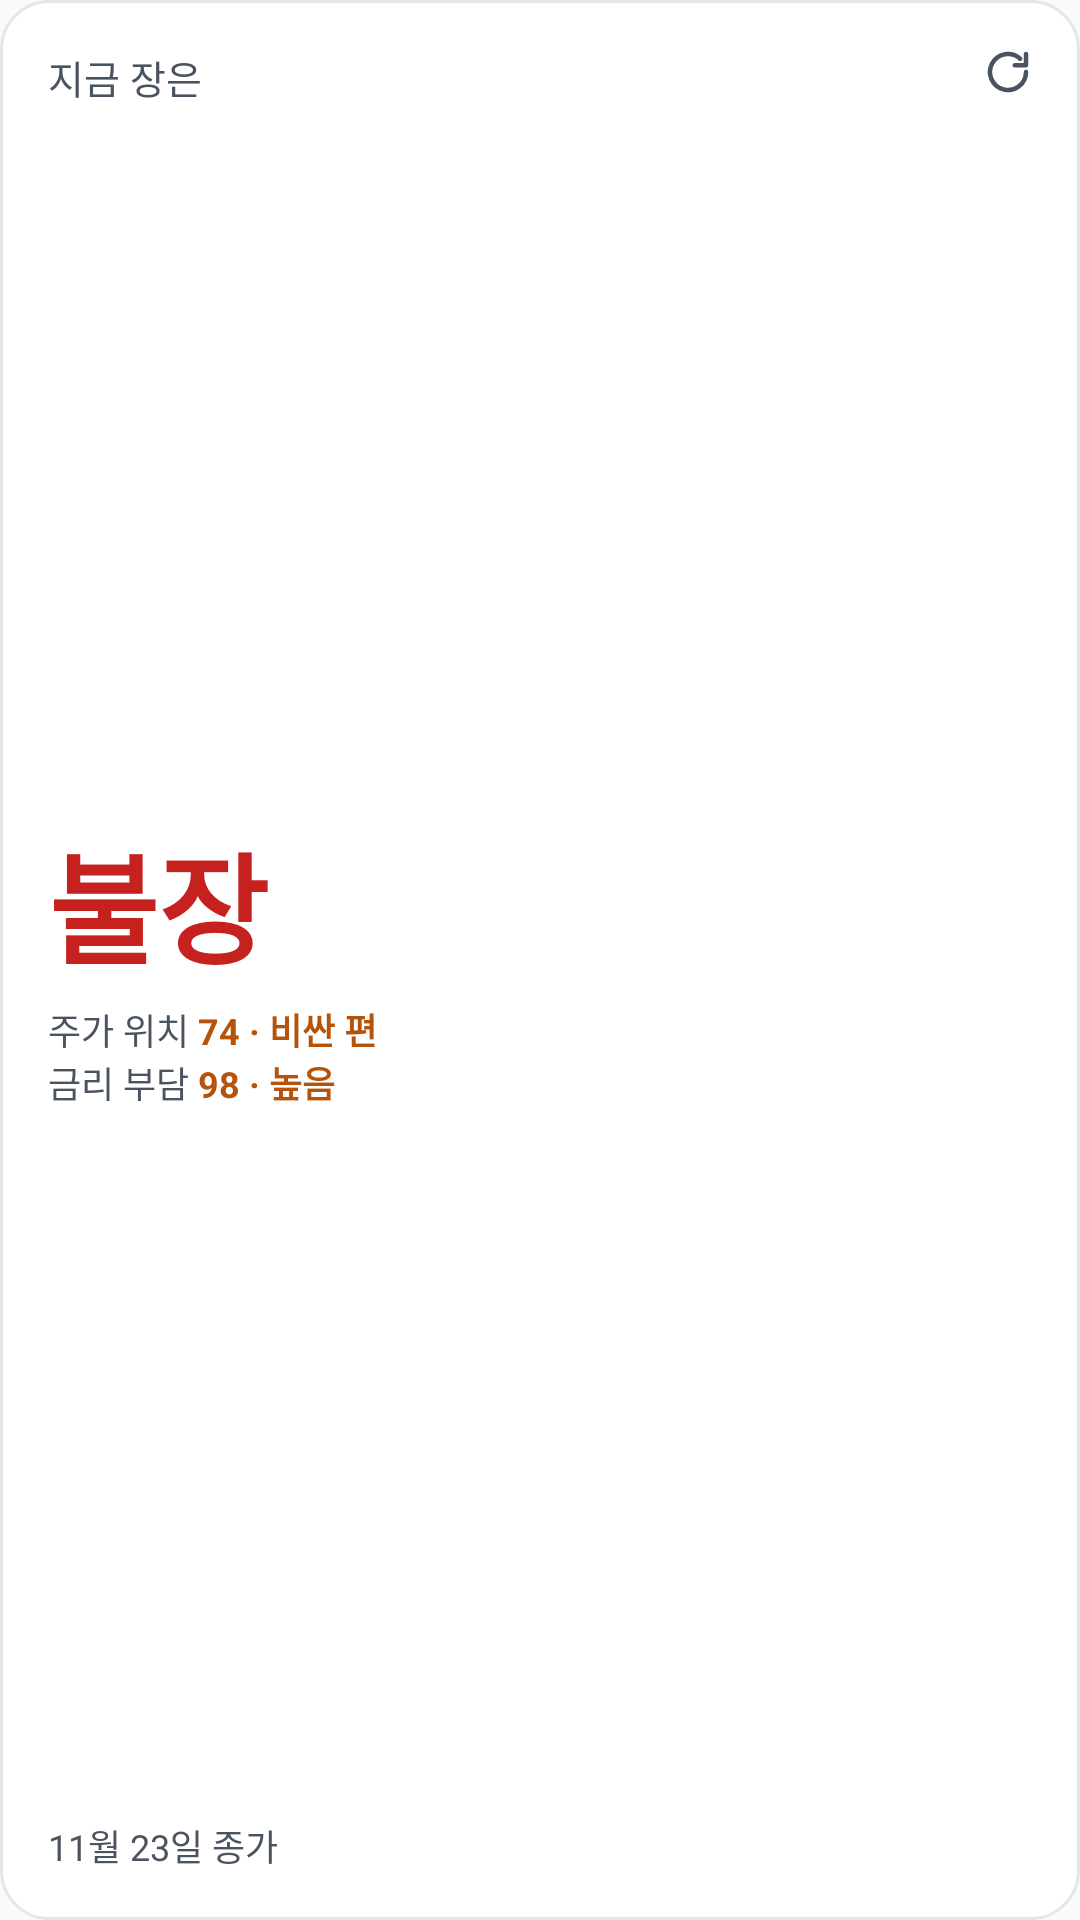

Icons on this 1080w x 1920h Android screen, each with its box as {"x1": x1, "y1": y1, "x2": x2, "y2": y2}:
새로 고침: {"x1": 987, "y1": 51, "x2": 1029, "y2": 93}
